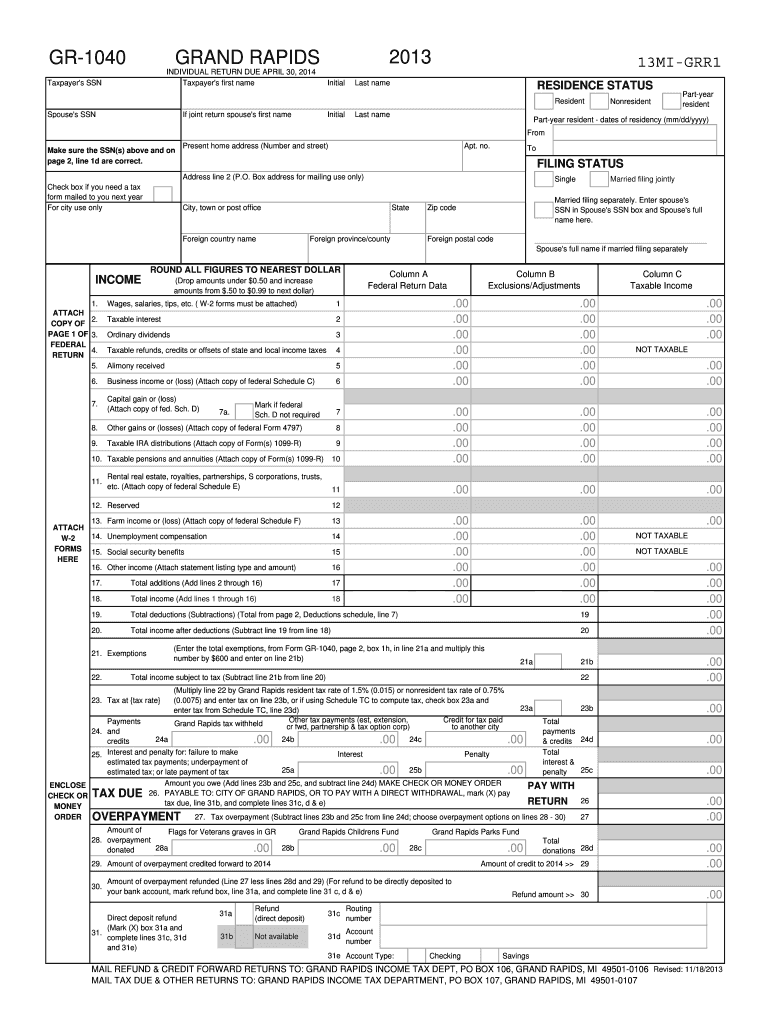checkbox: (531, 648, 565, 672), (531, 695, 565, 719), (233, 899, 256, 928), (232, 922, 255, 951), (531, 90, 558, 113), (585, 88, 612, 111), (657, 89, 684, 112), (531, 167, 558, 190), (585, 166, 612, 189), (529, 197, 556, 220), (230, 399, 257, 422), (405, 945, 427, 967), (477, 945, 499, 967)
textbox: (179, 167, 529, 205), (377, 896, 711, 932), (176, 136, 466, 174), (373, 920, 711, 950), (43, 197, 185, 266), (177, 198, 393, 235), (351, 72, 528, 112), (350, 105, 527, 145), (177, 73, 324, 113), (177, 104, 324, 144), (41, 73, 185, 113), (40, 103, 184, 143), (591, 865, 725, 906), (594, 632, 728, 672), (595, 681, 728, 719), (595, 711, 728, 749), (595, 742, 728, 780), (596, 773, 729, 811), (174, 230, 311, 265), (592, 821, 729, 856), (304, 229, 429, 264), (421, 199, 528, 237), (421, 227, 528, 265), (549, 120, 720, 143), (550, 133, 721, 156), (596, 804, 731, 828), (593, 850, 728, 874), (595, 664, 729, 688), (341, 291, 475, 313), (467, 293, 601, 315), (593, 291, 727, 313), (339, 307, 473, 329), (467, 307, 601, 329), (592, 308, 726, 330), (340, 323, 474, 345), (467, 323, 601, 345), (593, 323, 727, 345), (340, 337, 474, 359), (467, 339, 601, 361), (592, 337, 726, 359), (593, 355, 727, 377), (467, 353, 601, 375), (340, 354, 474, 376), (341, 368, 475, 390), (593, 370, 727, 392), (465, 368, 599, 390), (340, 399, 474, 421), (467, 401, 601, 423), (592, 402, 726, 424), (592, 416, 726, 438), (468, 416, 602, 438), (341, 416, 475, 438), (341, 431, 475, 453), (468, 431, 602, 453), (593, 433, 727, 455), (341, 447, 475, 469), (340, 478, 474, 500), (466, 445, 600, 467), (592, 446, 726, 468), (468, 478, 602, 500), (593, 478, 727, 500), (593, 509, 727, 531), (468, 508, 602, 530), (340, 509, 474, 531), (341, 525, 475, 547), (469, 523, 603, 545), (341, 541, 475, 563), (465, 540, 599, 562), (340, 555, 474, 577), (466, 555, 600, 577), (593, 556, 727, 578), (466, 570, 600, 592), (338, 569, 472, 591), (593, 571, 727, 593), (338, 587, 472, 609), (466, 586, 600, 608), (594, 602, 728, 624), (590, 585, 724, 607), (595, 617, 729, 639), (166, 834, 273, 859), (294, 834, 401, 859), (422, 834, 529, 859), (169, 725, 276, 750), (294, 724, 401, 749), (422, 724, 529, 749), (422, 755, 529, 780), (294, 755, 401, 780), (385, 198, 430, 232), (320, 73, 351, 112), (322, 105, 353, 144)
textline: (532, 225, 711, 246)
